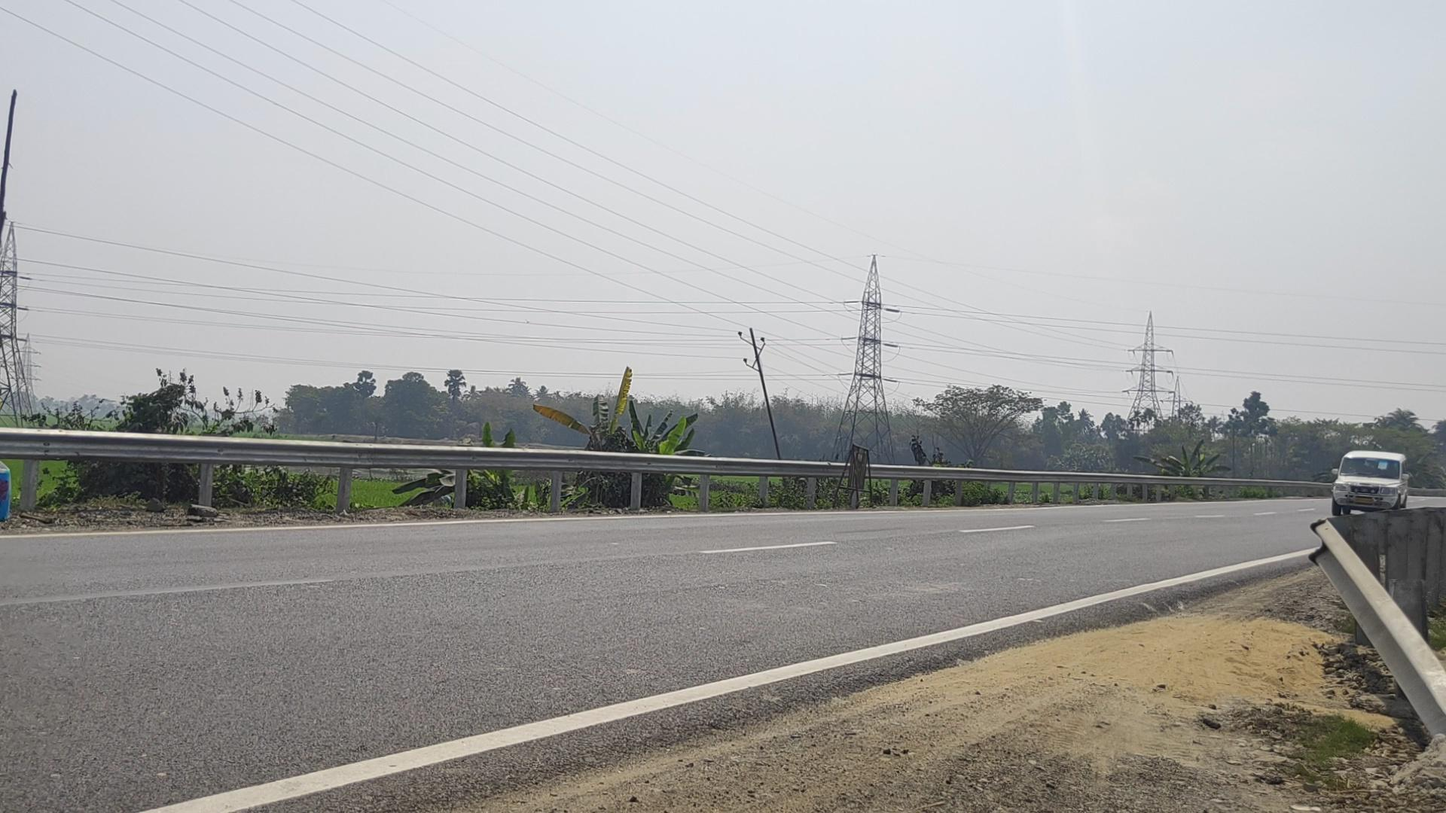car: (1332, 450, 1409, 516)
